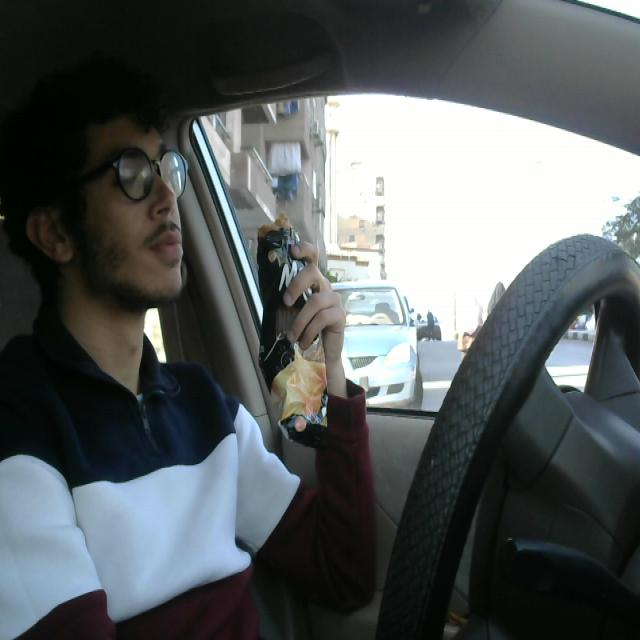eating: (245, 202, 333, 457)
